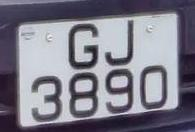0: (136, 59, 173, 112)
3: (28, 70, 65, 124)
8: (65, 68, 104, 122)
9: (101, 64, 137, 117)
G: (63, 19, 104, 71)
J: (102, 16, 137, 67)
